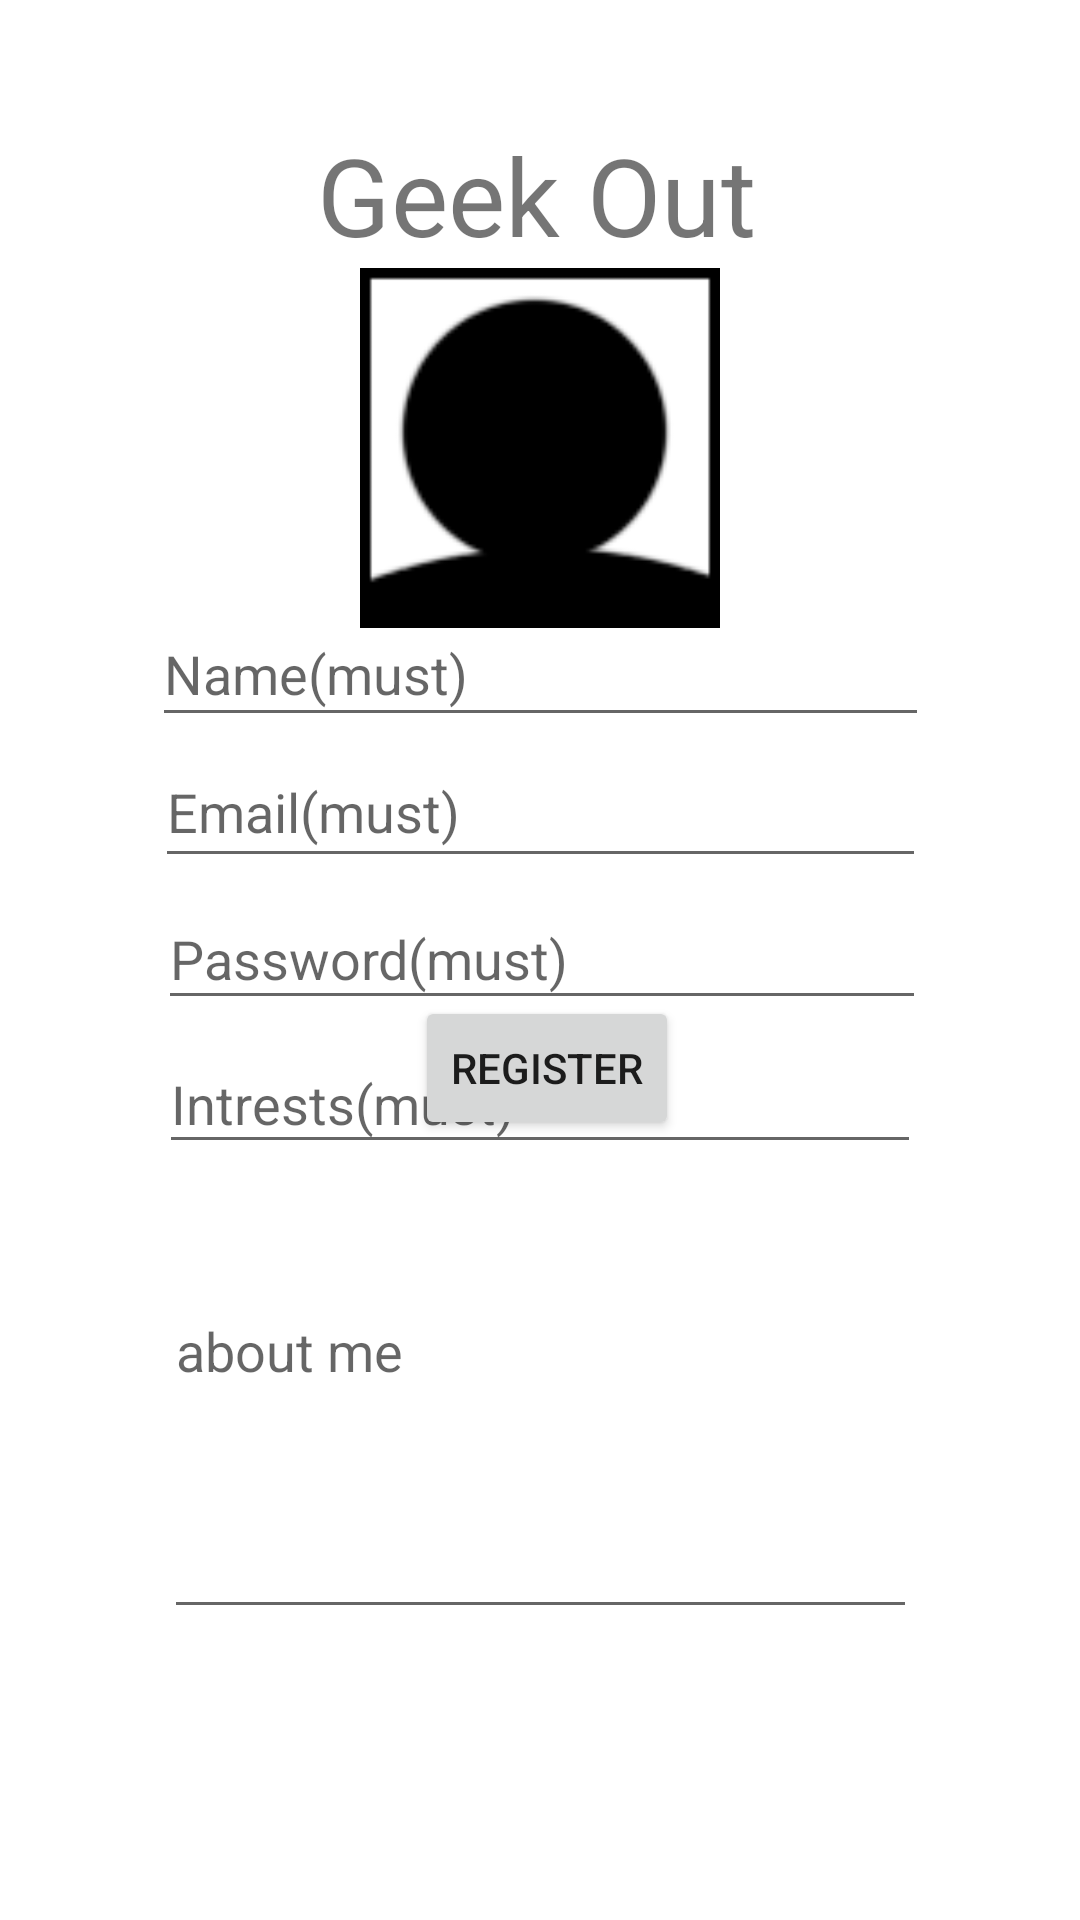

Where to tap for icons on this 1080x1920 app screen, as [x,y]:
emptyuser: [540,448]
